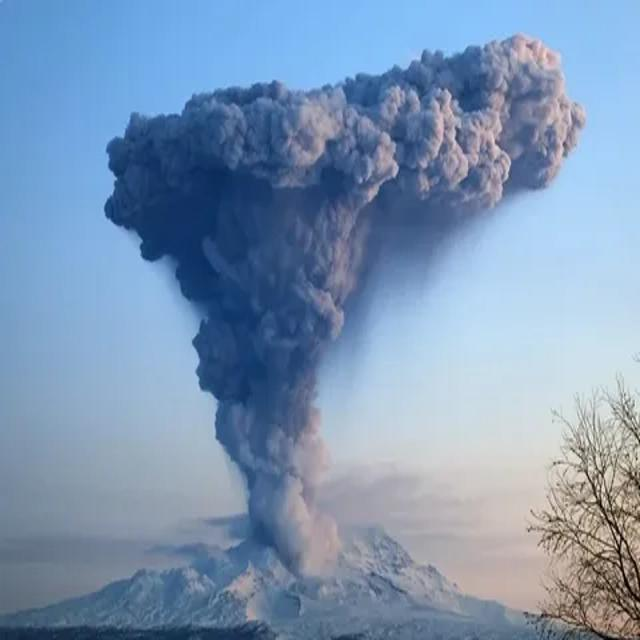Smoke: (105, 34, 581, 574)
